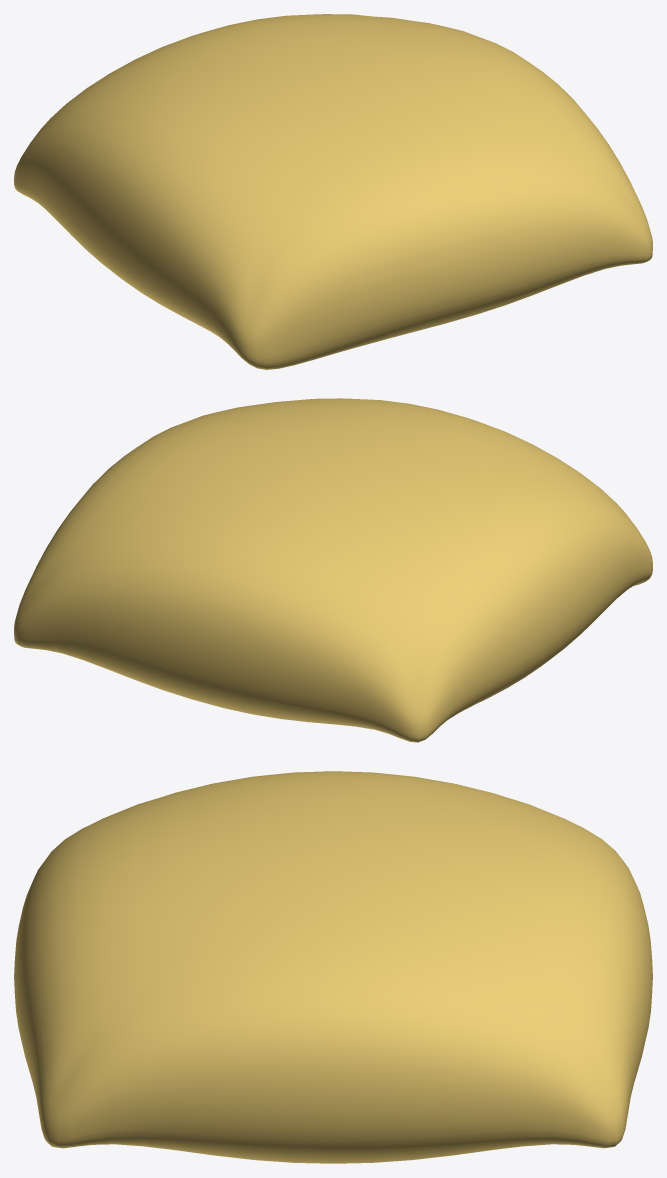
Rendered from baglying_02.fbx.
3 renders of one model, top to bottom at view 1: azimuth 30°, elevation 25°; view 2: azimuth 150°, elevation 25°; view 3: azimuth 270°, elevation 25°, orthographic. The views are drawn at different scales.
Visible parts, largest first — view 1: Cube.018; view 2: Cube.018; view 3: Cube.018.
Part boxes in pixels (x1,y1,x2,y2): Cube.018: (14,14,652,369); Cube.018: (14,398,652,742); Cube.018: (14,771,652,1163).
Size of the model in its own units: 113 by 45.71 by 113.
